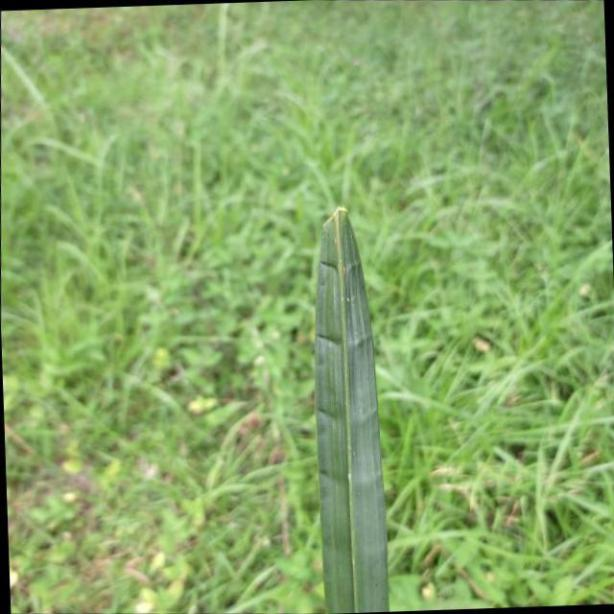Boron: (310, 196, 388, 614)
